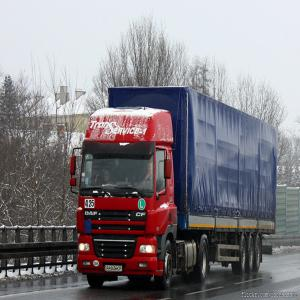Vehicle-registration-plate: (106, 264, 123, 273)
